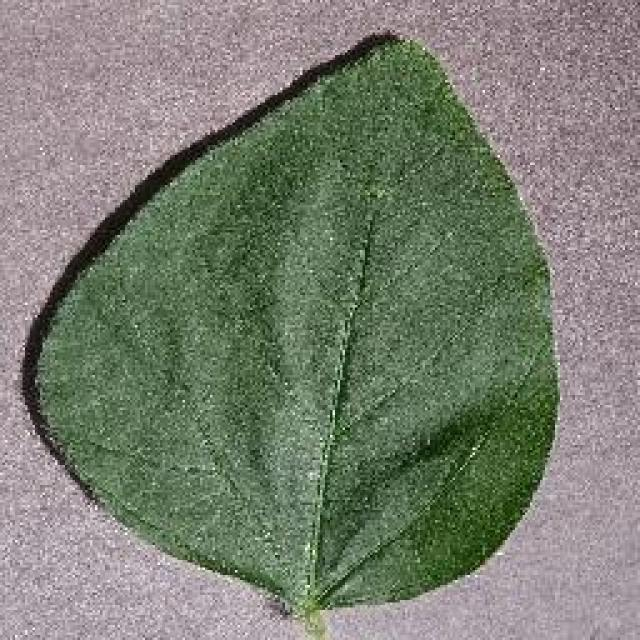Soy_healthy: (51, 90, 550, 547)
